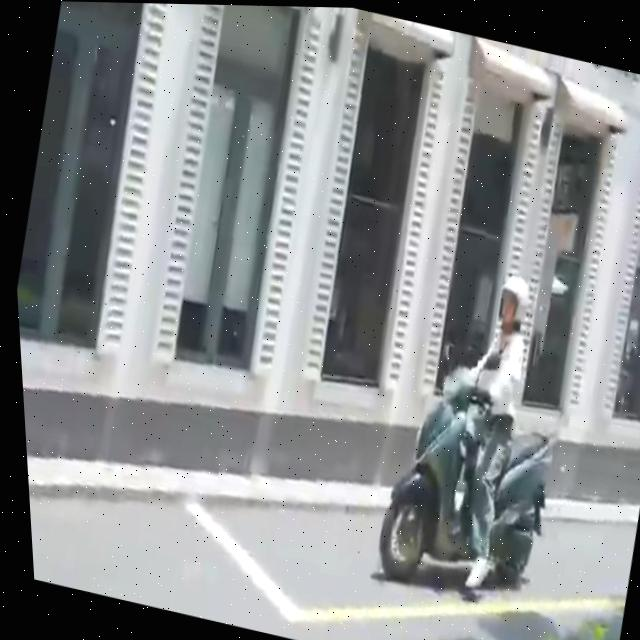motorcycle: (351, 344, 584, 617)
